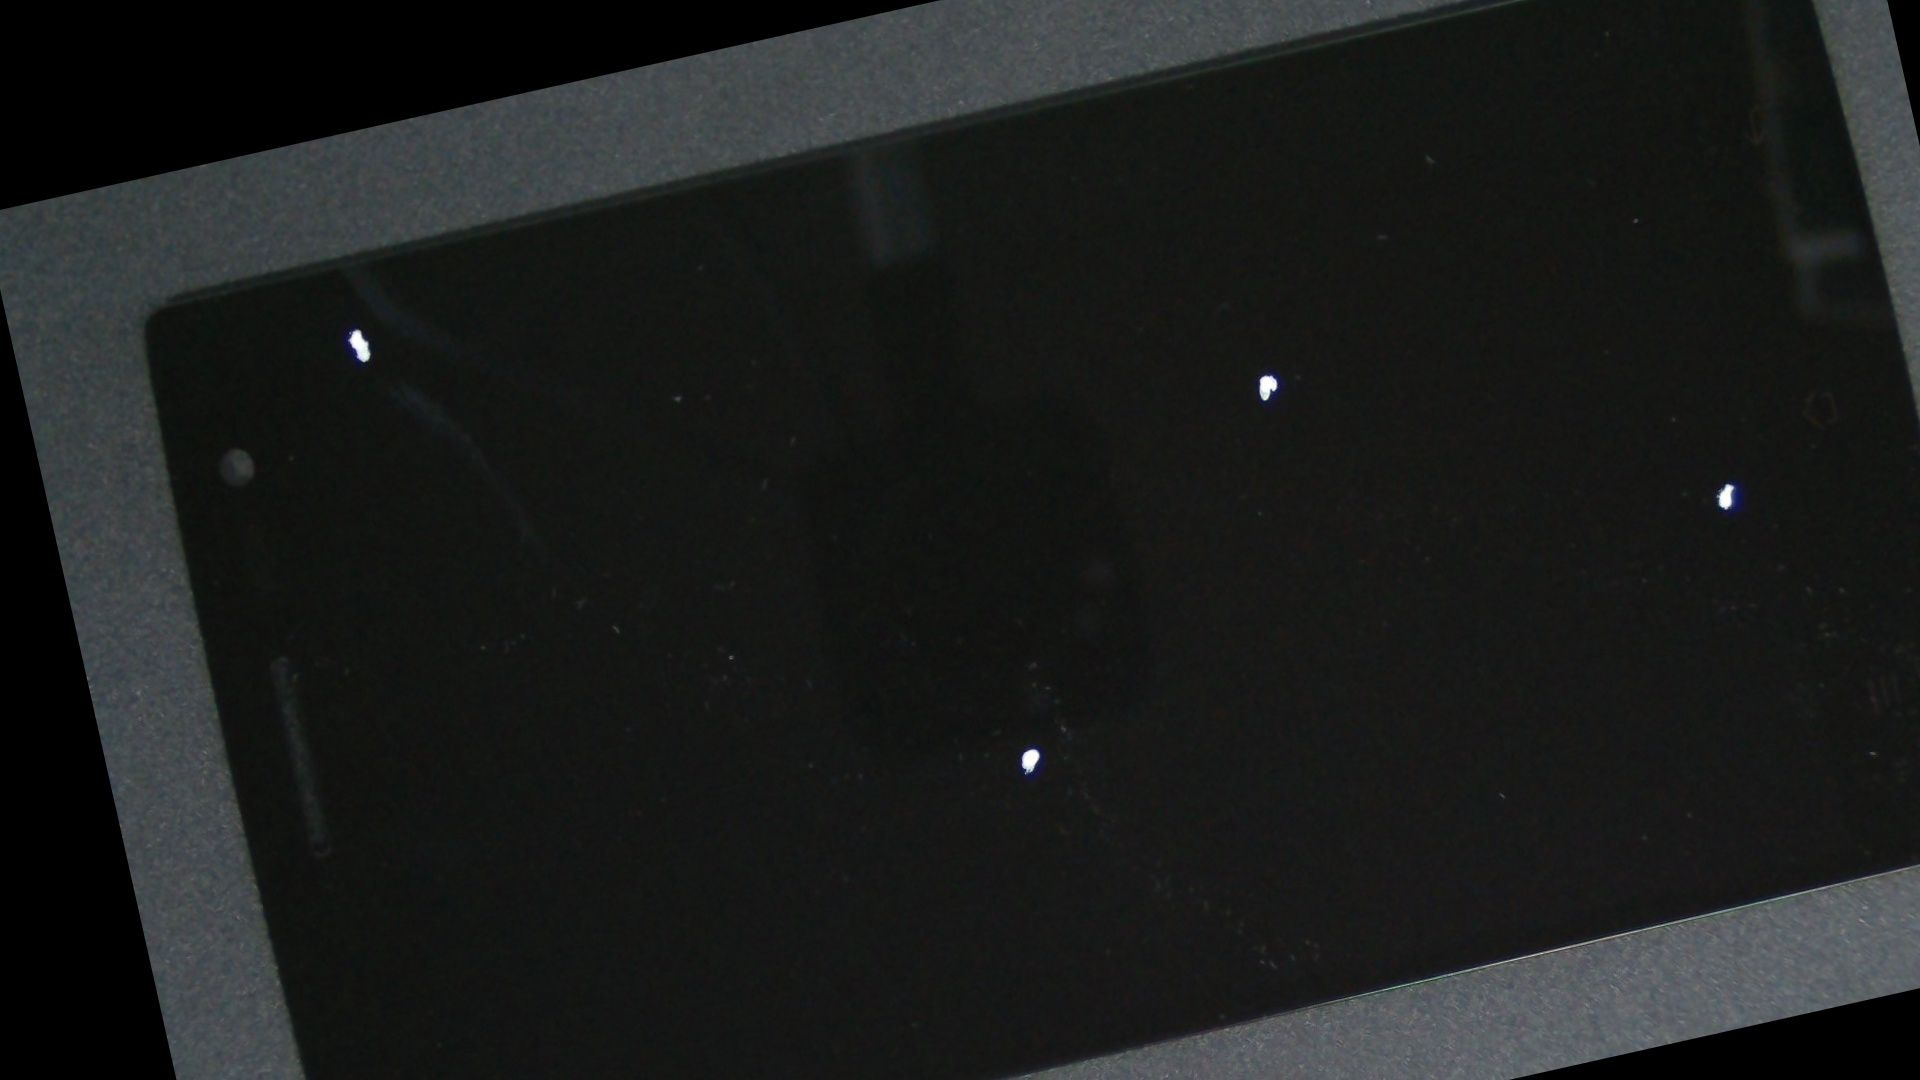oil: (855, 112, 1920, 976), (625, 28, 1907, 719), (505, 284, 1549, 1080), (169, 198, 539, 460)
